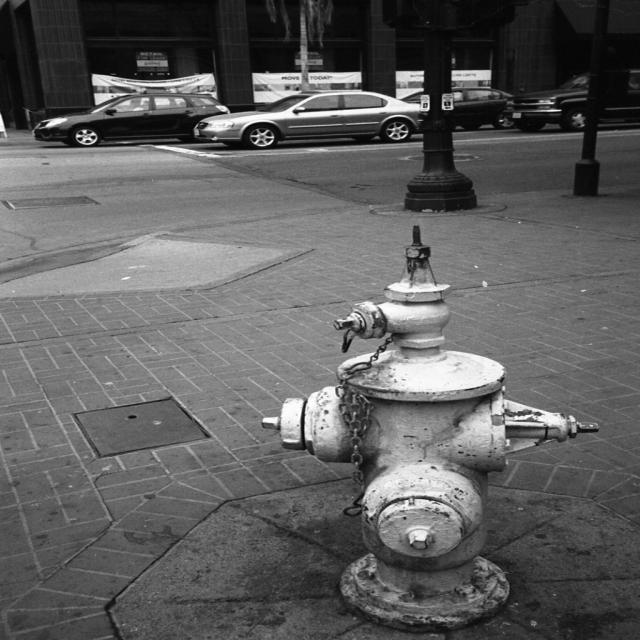fire_hydrant: (260, 226, 601, 633)
